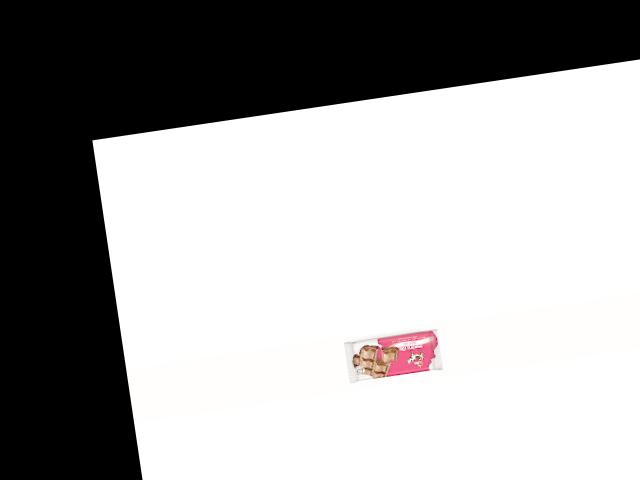chocolate: (340, 320, 445, 386)
